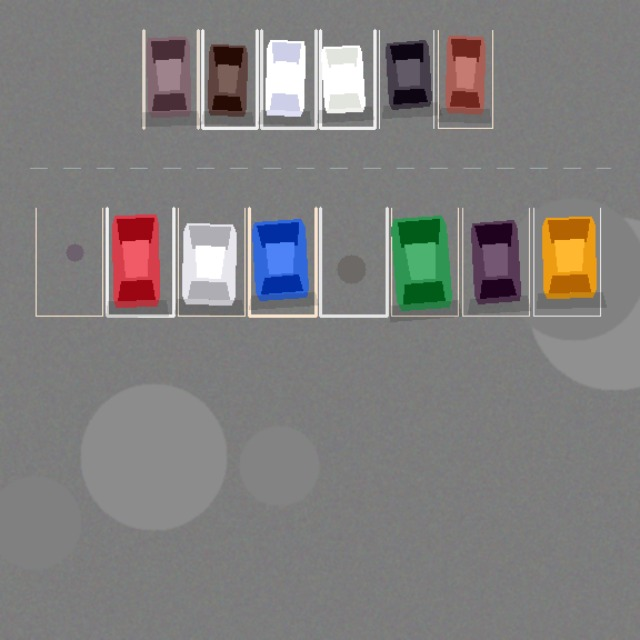space-empty: (320, 208, 387, 316), (36, 208, 102, 316)
space-occupied: (249, 208, 316, 316), (391, 208, 458, 316), (462, 208, 529, 316), (533, 208, 600, 316), (107, 208, 173, 316), (178, 208, 244, 316), (143, 30, 198, 128), (202, 30, 257, 128), (261, 30, 316, 128), (320, 30, 374, 128), (379, 30, 433, 128), (438, 30, 492, 128)
